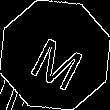M_NE: (23, 22, 87, 88)
